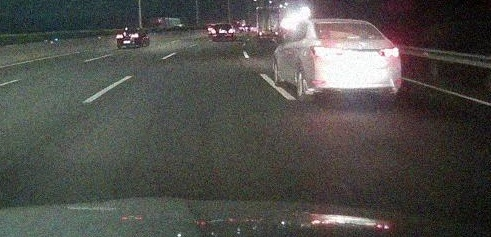L_light: (310, 46, 342, 57)
R_light: (378, 47, 399, 57)
T_light: (347, 34, 360, 39)
night-no: (309, 19, 401, 103)
